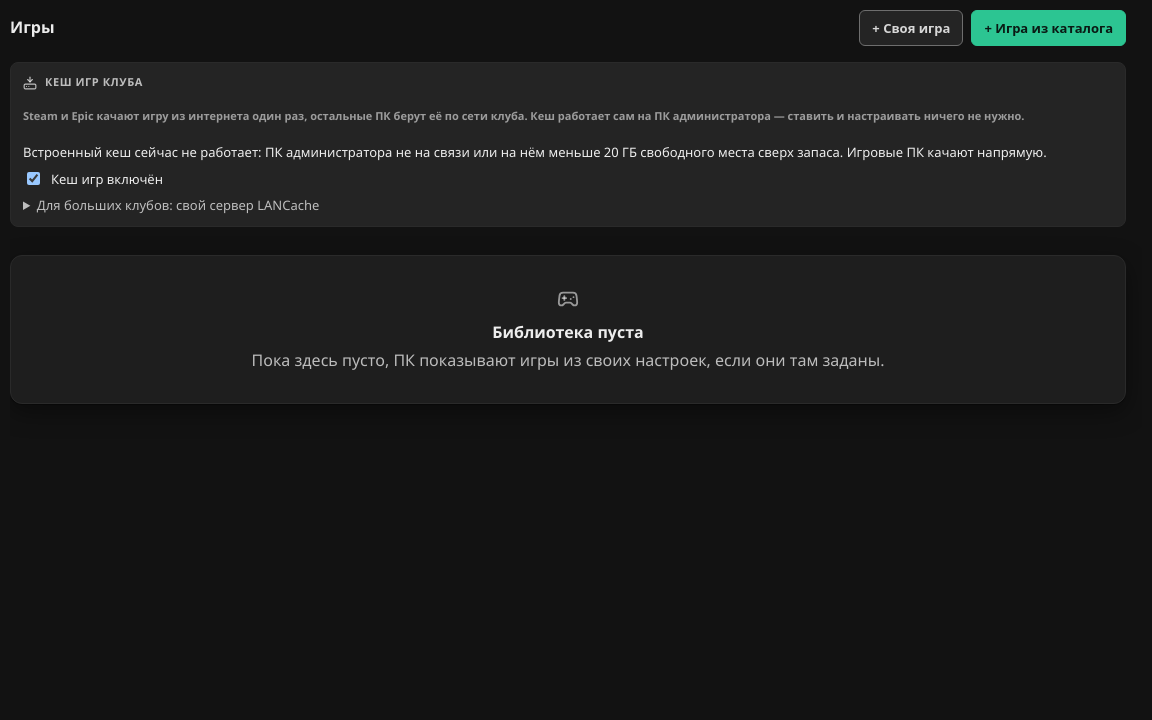
GamesDestination › adds a game from the catalog, linked to it
The width and height of the screenshot is (1152, 720).
Check: the heading "Библиотека пуста" is shown, box x1=492 y1=321 x2=644 y2=343
Click the button "+ Игра из каталога" at {"x": 1049, "y": 28}, box x1=971 y1=10 x2=1126 y2=46
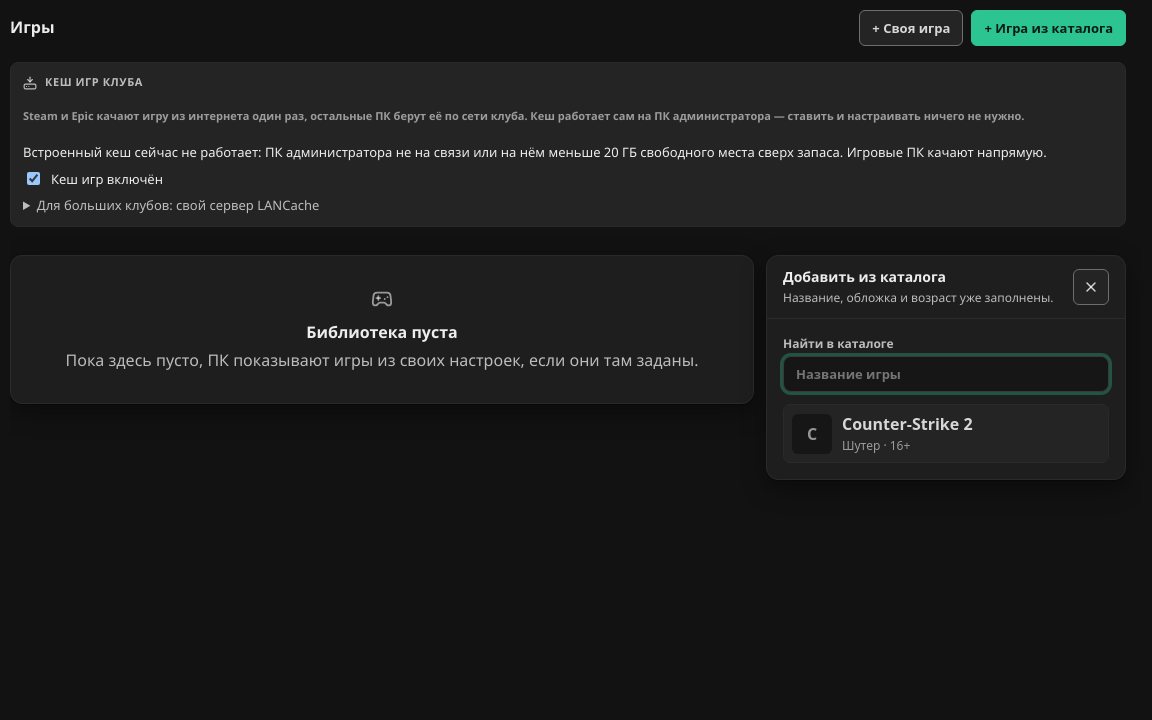
Click the button "C Counter-Strike 2 Шутер · 16+" at {"x": 946, "y": 434}, box x1=783 y1=404 x2=1109 y2=463
(page scrolled)
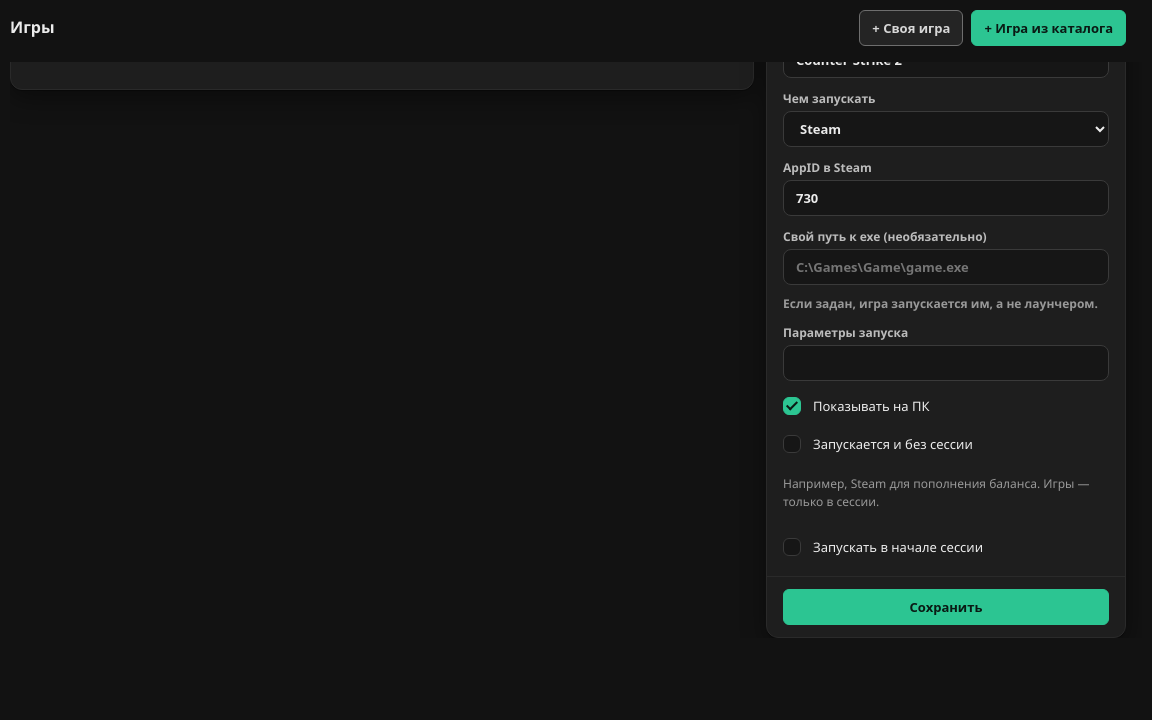
Check: the field showing "730" is shown, box x1=783 y1=180 x2=1109 y2=216
Click the button "Сохранить" at {"x": 946, "y": 607}, box x1=783 y1=589 x2=1109 y2=625
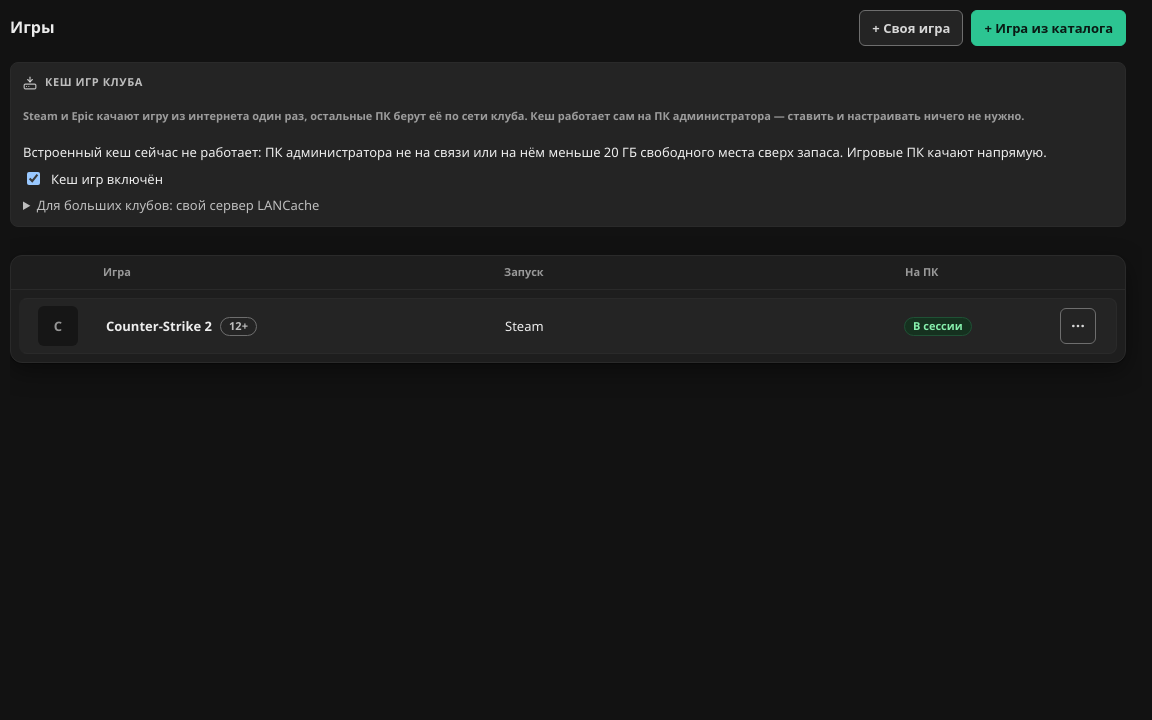
Check: the text "Counter-Strike 2" is shown, box x1=106 y1=317 x2=212 y2=335
